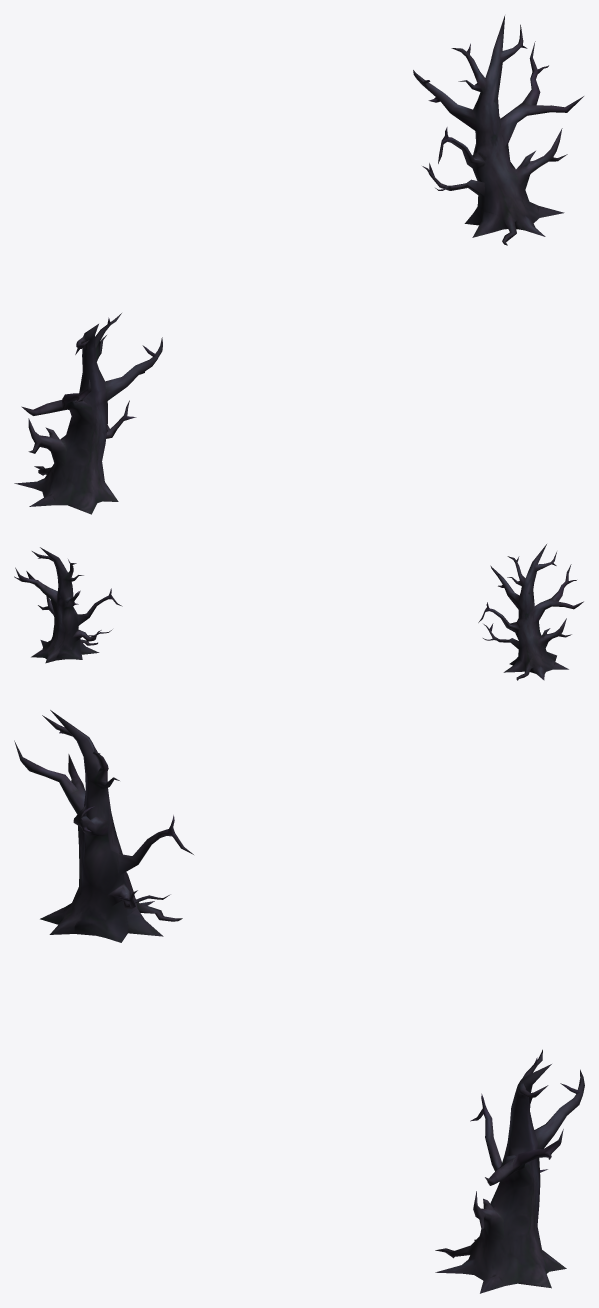
Rendered from Area12_4.fbx.
3 renders of one model, top to bottom at view 1: azimuth 30°, elevation 25°; view 2: azimuth 150°, elevation 25°; view 3: azimuth 270°, elevation 25°, orthographic. The views are drawn at different scales.
Parts seen in each view (by area): view 1: Area12_4; view 2: Area12_4; view 3: Area12_4.
Boxes of the visible parts, x1,y1,x2,y2 form: Area12_4: (14, 16, 583, 514); Area12_4: (14, 544, 583, 680); Area12_4: (14, 710, 584, 1293).
Size of the model in its own units: 3533 by 844 by 2014.
